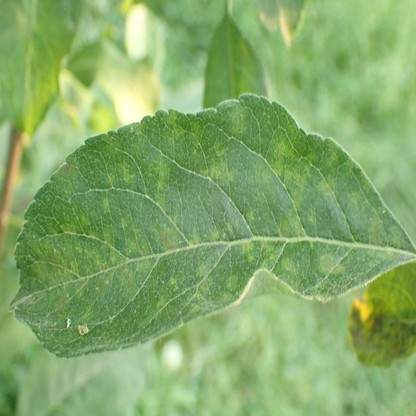powdery_mildew: (11, 295, 56, 338)
scab: (23, 214, 152, 294), (350, 305, 416, 362), (368, 209, 403, 260), (272, 143, 309, 185), (279, 185, 304, 238), (152, 214, 179, 251), (200, 161, 236, 184), (154, 156, 169, 207), (57, 155, 80, 181), (261, 239, 280, 269), (164, 112, 181, 139), (196, 265, 214, 290), (230, 107, 246, 135), (320, 254, 342, 274), (317, 174, 335, 195), (325, 141, 337, 166), (224, 275, 238, 293), (121, 163, 133, 182), (189, 227, 201, 246), (349, 191, 360, 211), (281, 257, 294, 272), (214, 141, 227, 155), (307, 210, 319, 225), (102, 196, 110, 212), (246, 209, 256, 221), (210, 229, 219, 242), (243, 241, 254, 251), (157, 297, 167, 308), (105, 175, 115, 183), (227, 222, 233, 233), (221, 229, 225, 242), (169, 278, 176, 285)
